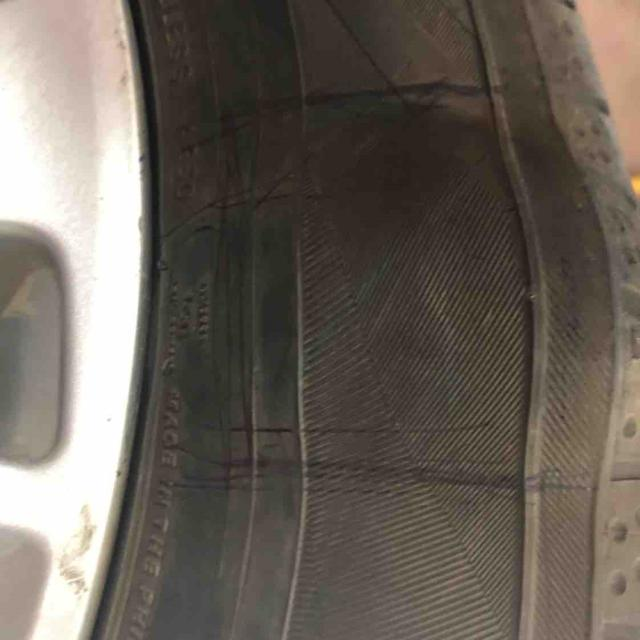Bulge: (250, 111, 640, 457)
